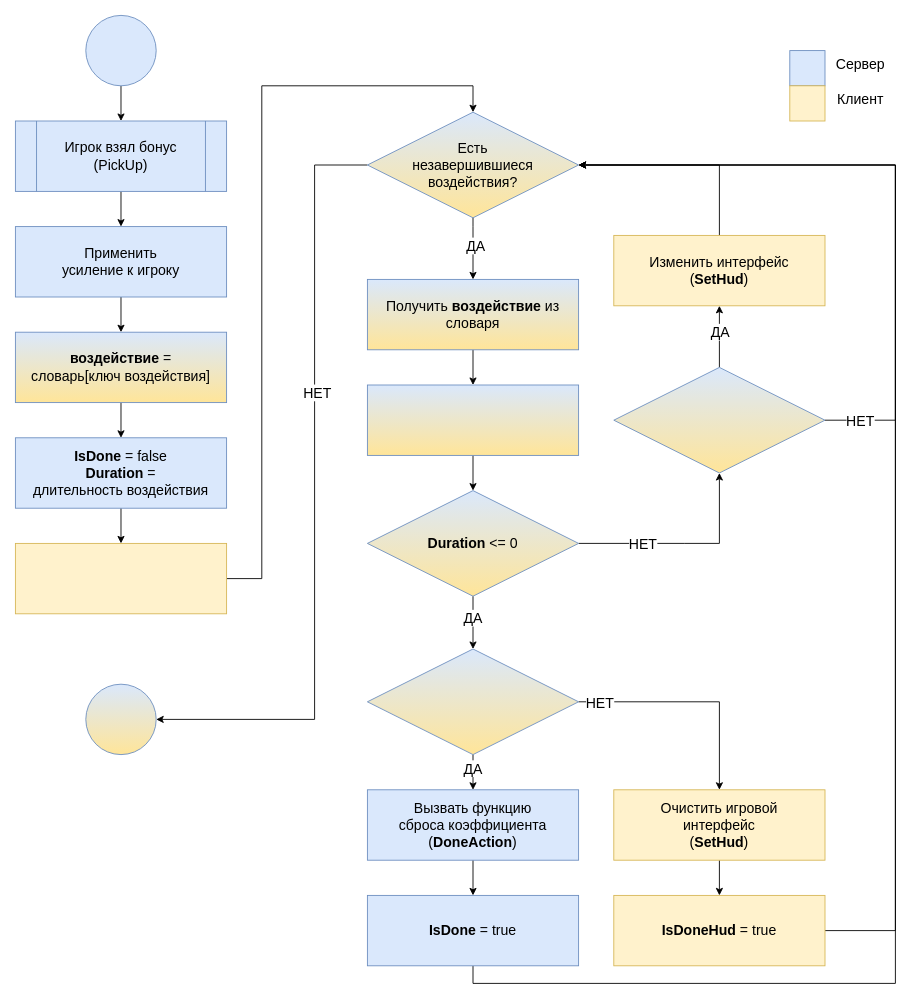
The diagram is 918 pixels wide and 1006 high, and some of its shapes have lost their labels. The shapes that lost their labels are listed below. From the top down, each one's centre as x and y in pixels, then its label:
the point at 120,50: Начало
the point at 473,419: Уменьшить Duration
the point at 719,420: Это клиент?
the point at 121,578: IsDoneHud = false Duration = длительность воздействия
the point at 120,719: Конец
the point at 473,701: Это сервер?
